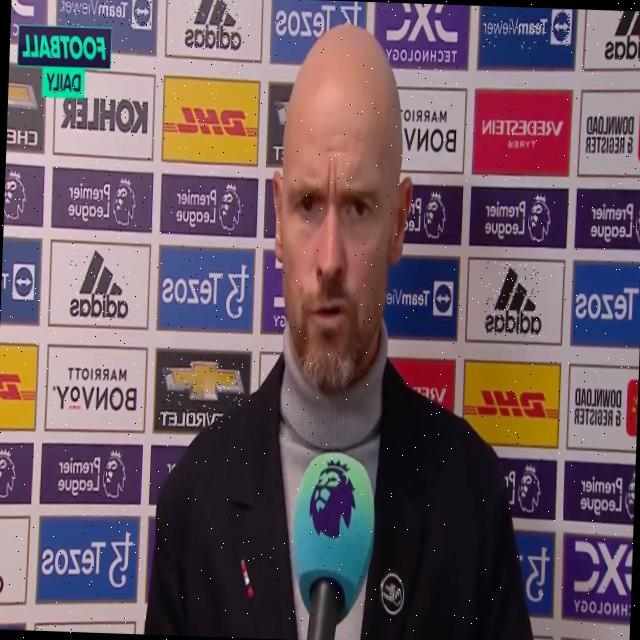Adidas: (68, 248, 130, 322), (483, 261, 542, 337), (183, 0, 242, 51)
Chevrolet: (158, 357, 243, 430)
Kohler: (60, 93, 148, 136)
TeamViewer: (480, 7, 573, 50), (59, 0, 151, 29)
